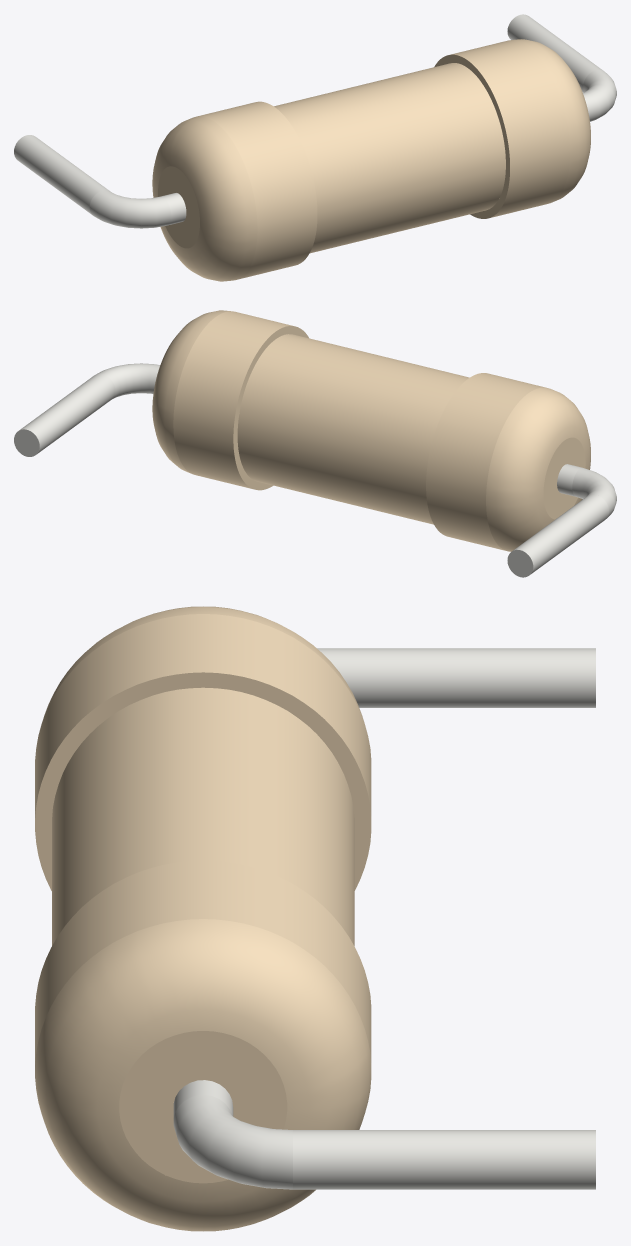
File: R_Axial_DIN0414_L11.9mm_D4.5mm_P15.24mm_Horizontal.glb
3 renders of one model, top to bottom at view 1: azimuth 30°, elevation 25°; view 2: azimuth 150°, elevation 25°; view 3: azimuth 270°, elevation 25°, orthographic. The views are drawn at different scales.
Visible parts, largest first — view 1: Shape_IndexedFaceSet.004, Shape_IndexedFaceSet.001, Shape_IndexedFaceSet, Shape_IndexedFaceSet.008, Shape_IndexedFaceSet.010, Shape_IndexedFaceSet.009, Shape_IndexedFaceSet.007, Shape_IndexedFaceSet.015, Shape_IndexedFaceSet.003, Shape_IndexedFaceSet.014, Shape_IndexedFaceSet.006, Shape_IndexedFaceSet.005; view 2: Shape_IndexedFaceSet.004, Shape_IndexedFaceSet.008, Shape_IndexedFaceSet, Shape_IndexedFaceSet.001, Shape_IndexedFaceSet.010, Shape_IndexedFaceSet.015, Shape_IndexedFaceSet.009, Shape_IndexedFaceSet.003, Shape_IndexedFaceSet.014, Shape_IndexedFaceSet.006, Shape_IndexedFaceSet.007, Shape_IndexedFaceSet.011 (+2 smaller); view 3: Shape_IndexedFaceSet.010, Shape_IndexedFaceSet.004, Shape_IndexedFaceSet.008, Shape_IndexedFaceSet, Shape_IndexedFaceSet.015, Shape_IndexedFaceSet.009, Shape_IndexedFaceSet.012, Shape_IndexedFaceSet.002, Shape_IndexedFaceSet.014, Shape_IndexedFaceSet.001, Shape_IndexedFaceSet.013.
Boxes of the visible parts, <box> form: Shape_IndexedFaceSet.004: <box>274,63,505,253</box>; Shape_IndexedFaceSet.001: <box>152,116,257,281</box>; Shape_IndexedFaceSet: <box>197,101,317,279</box>; Shape_IndexedFaceSet.008: <box>451,40,569,217</box>; Shape_IndexedFaceSet.010: <box>514,39,590,202</box>; Shape_IndexedFaceSet.009: <box>14,135,109,215</box>; Shape_IndexedFaceSet.007: <box>89,190,171,228</box>; Shape_IndexedFaceSet.015: <box>507,14,603,92</box>; Shape_IndexedFaceSet.003: <box>158,166,199,248</box>; Shape_IndexedFaceSet.014: <box>583,69,616,121</box>; Shape_IndexedFaceSet.006: <box>434,54,509,218</box>; Shape_IndexedFaceSet.005: <box>161,193,186,225</box>; Shape_IndexedFaceSet.004: <box>237,334,469,524</box>; Shape_IndexedFaceSet.008: <box>173,311,292,488</box>; Shape_IndexedFaceSet: <box>426,373,545,550</box>; Shape_IndexedFaceSet.001: <box>486,387,590,551</box>; Shape_IndexedFaceSet.010: <box>152,310,230,473</box>; Shape_IndexedFaceSet.015: <box>19,374,115,453</box>; Shape_IndexedFaceSet.009: <box>513,494,608,573</box>; Shape_IndexedFaceSet.003: <box>543,437,585,519</box>; Shape_IndexedFaceSet.014: <box>96,363,160,398</box>; Shape_IndexedFaceSet.006: <box>233,326,308,490</box>; Shape_IndexedFaceSet.007: <box>572,468,616,517</box>; Shape_IndexedFaceSet.011: <box>507,549,533,577</box>; Shape_IndexedFaceSet.010: <box>35,919,371,1231</box>; Shape_IndexedFaceSet.004: <box>52,687,354,945</box>; Shape_IndexedFaceSet.008: <box>35,860,371,1064</box>; Shape_IndexedFaceSet: <box>35,614,371,817</box>; Shape_IndexedFaceSet.015: <box>293,1130,595,1189</box>; Shape_IndexedFaceSet.009: <box>317,648,595,707</box>; Shape_IndexedFaceSet.012: <box>119,1031,287,1183</box>; Shape_IndexedFaceSet.002: <box>35,672,371,890</box>; Shape_IndexedFaceSet.014: <box>173,1095,292,1189</box>; Shape_IndexedFaceSet.001: <box>43,606,363,720</box>; Shape_IndexedFaceSet.013: <box>173,1080,233,1117</box>.
Size of the model in its own units: 6.31 by 1.77 by 2.95.
